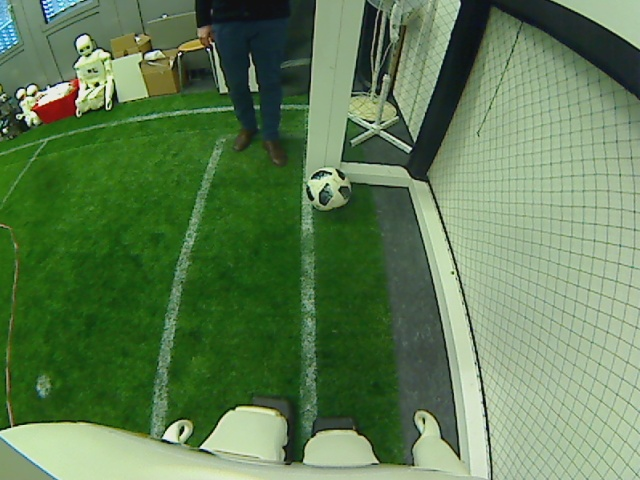ball: (305, 164, 352, 210)
